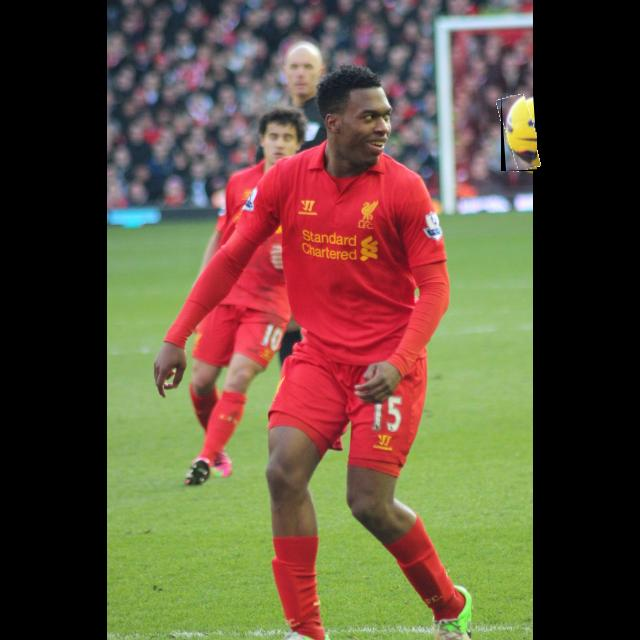Football: (501, 95, 537, 171)
